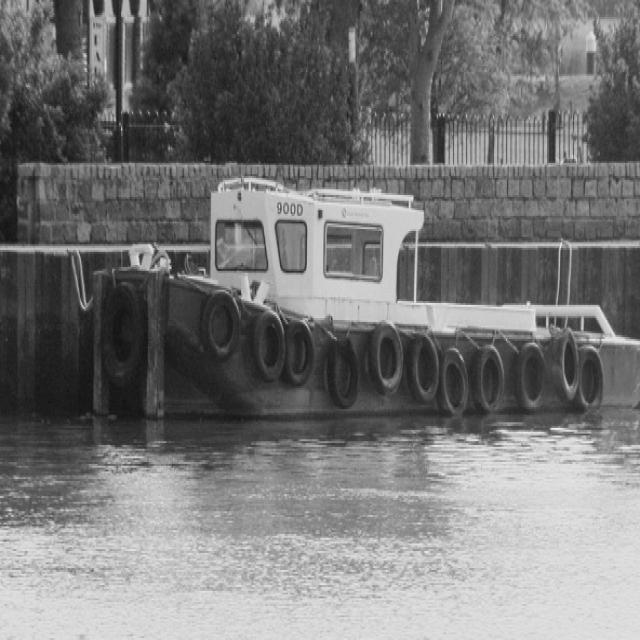tugboat: (86, 168, 640, 444)
